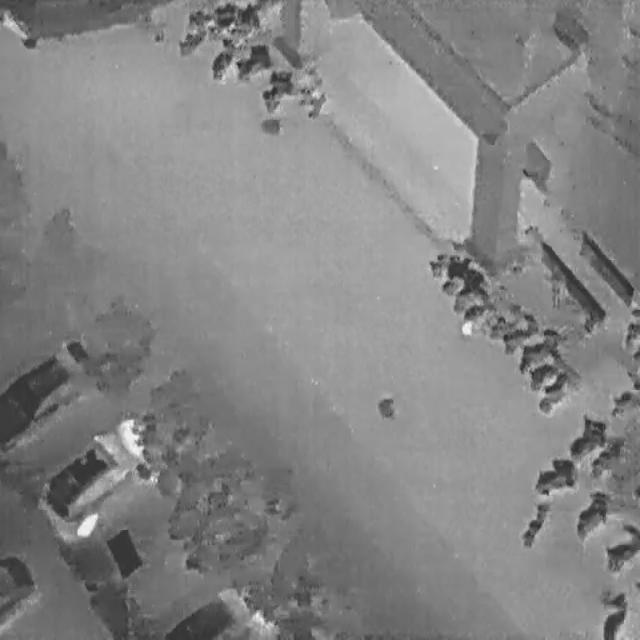Bicycle: (528, 352, 586, 418), (563, 479, 618, 546), (559, 404, 613, 466), (508, 319, 565, 375), (251, 58, 298, 119), (228, 34, 277, 88), (583, 429, 630, 485), (527, 450, 580, 499), (495, 308, 542, 358), (522, 344, 567, 394), (456, 288, 502, 336), (203, 30, 241, 86), (602, 518, 638, 574), (517, 494, 552, 551), (225, 0, 264, 51), (437, 259, 485, 300), (447, 276, 492, 316), (483, 300, 525, 342), (425, 244, 472, 280), (173, 18, 208, 60), (603, 582, 628, 638), (608, 386, 639, 414), (620, 320, 638, 351), (214, 4, 239, 26), (187, 8, 214, 28)
Car: (32, 402, 166, 538), (0, 336, 92, 444), (161, 585, 253, 637), (0, 553, 37, 625)
